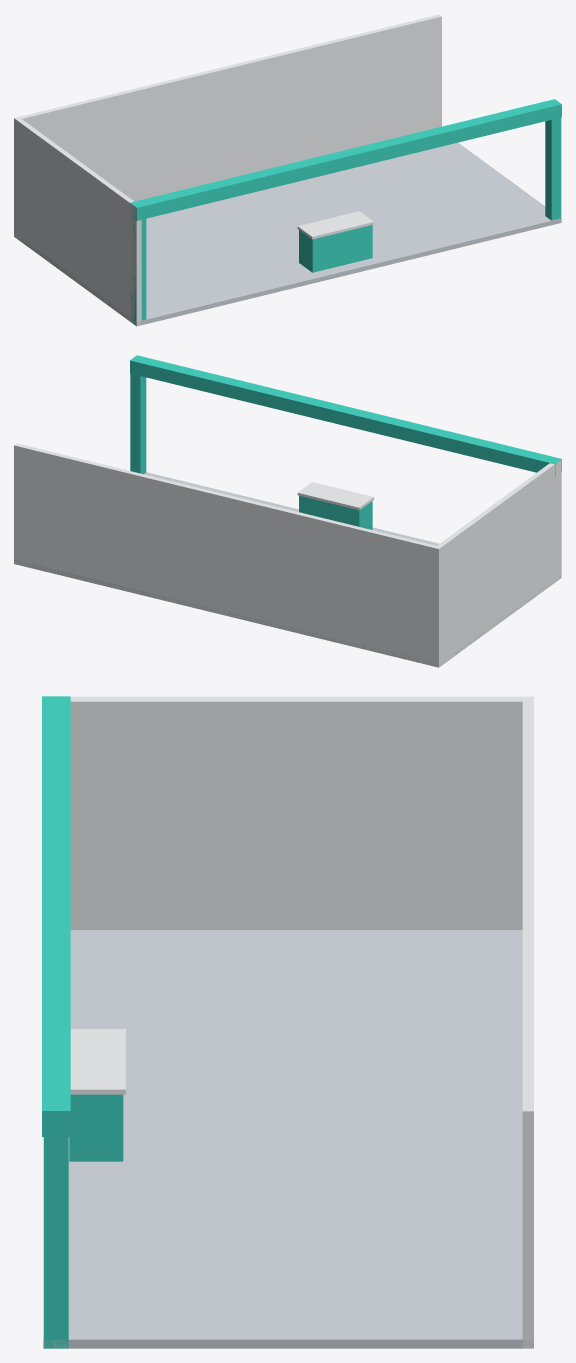
The picture shows the model from 3 angles, top to bottom: view 1: azimuth 30°, elevation 25°; view 2: azimuth 150°, elevation 25°; view 3: azimuth 270°, elevation 25°; orthographic projection. The views are drawn at different scales.
Parts seen in each view (by area): view 1: Exhibition Booth Concept; view 2: Exhibition Booth Concept; view 3: Exhibition Booth Concept.
Boxes of the visible parts, left/top/right/bottom form: Exhibition Booth Concept: left=14, top=14, right=561, bottom=326; Exhibition Booth Concept: left=14, top=355, right=561, bottom=667; Exhibition Booth Concept: left=42, top=696, right=533, bottom=1348.
Size of the model in its own units: 12 by 3.2 by 6.02.
